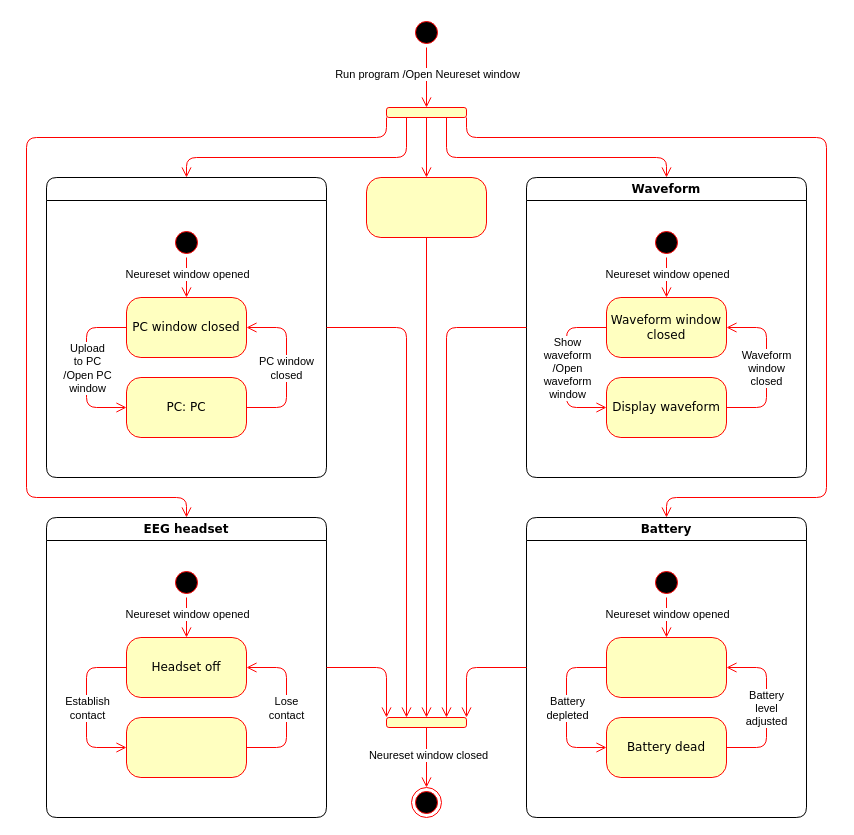
This 854x835 diagram has some shape labels left out. The box of each missing label's shape, as (x1, y1, x2, y2) in pixels:
Battery charged: (606, 636, 726, 698)
Headset on: (126, 716, 246, 778)
Neureset: Neureset: (366, 176, 486, 238)
PC: (46, 176, 326, 478)
